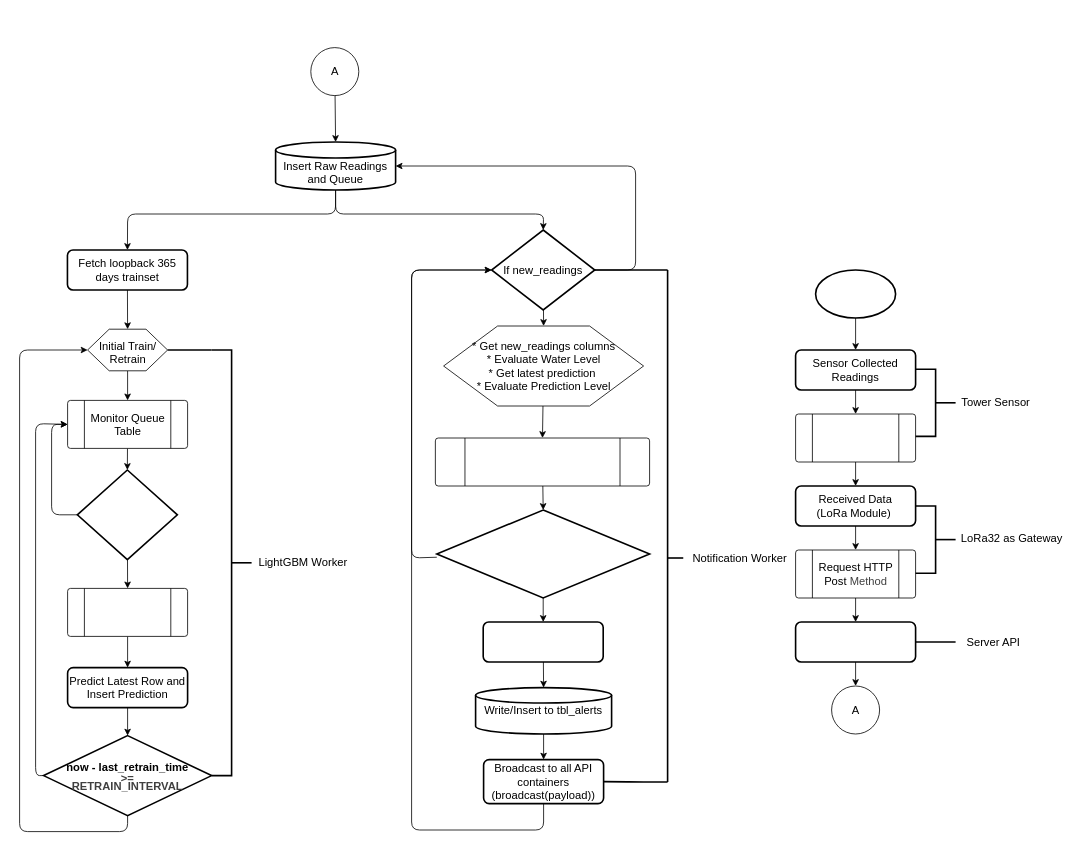
This 1086x852 diagram has some shape labels left out. The centre of each missing label's shape, as x and y in pixels:
Build WebSocket payload: point 543,641
Get Tower's Latest Row: point 127,612
If Tower's Row count >= 20: point 127,514
if water_level in TRIGGER_SET or predicted_level in TRIGGER_SET:: point 543,553
Recieved HTTP Post Request: point 855,641
START: point 855,293
Transmit Data (LoRa Module): point 855,437
TRIGGER_SET = {"knees", "waist", "chest"}: point 542,461
